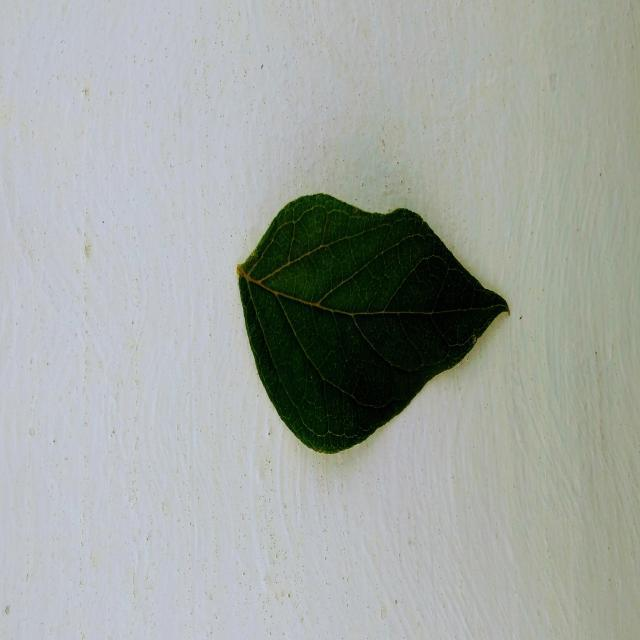leaf: (235, 191, 510, 454)
